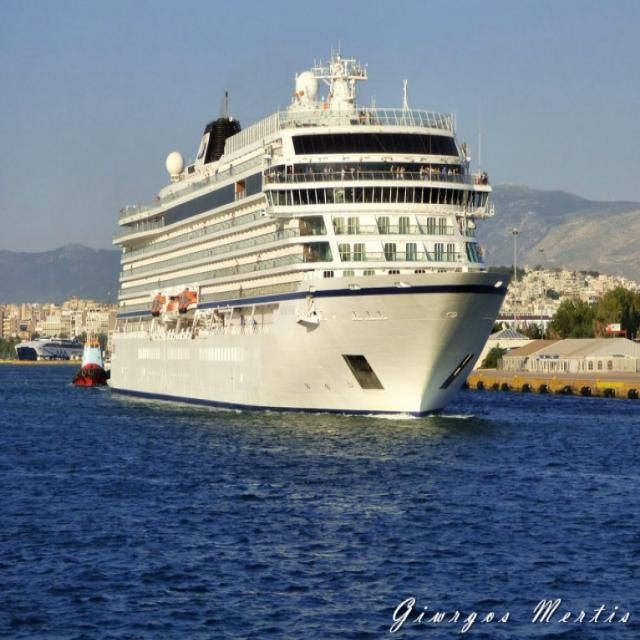cruises: (102, 51, 520, 426)
